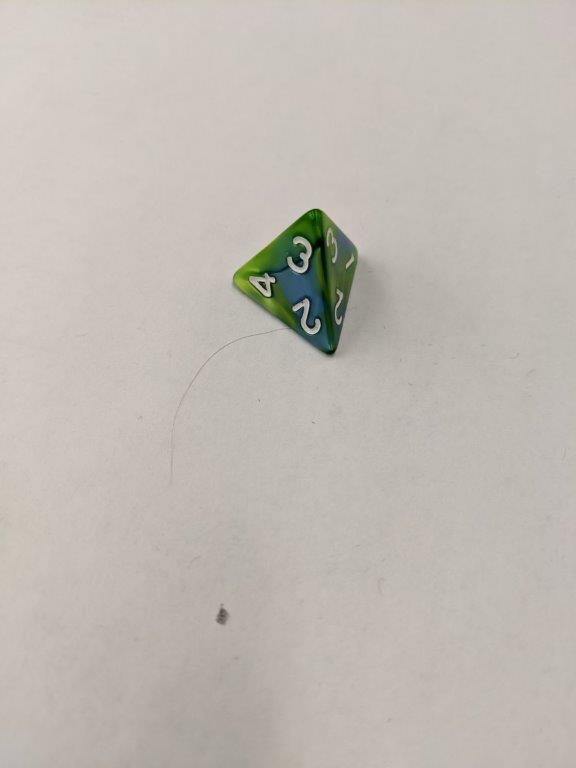d4-3: (231, 205, 360, 359)
